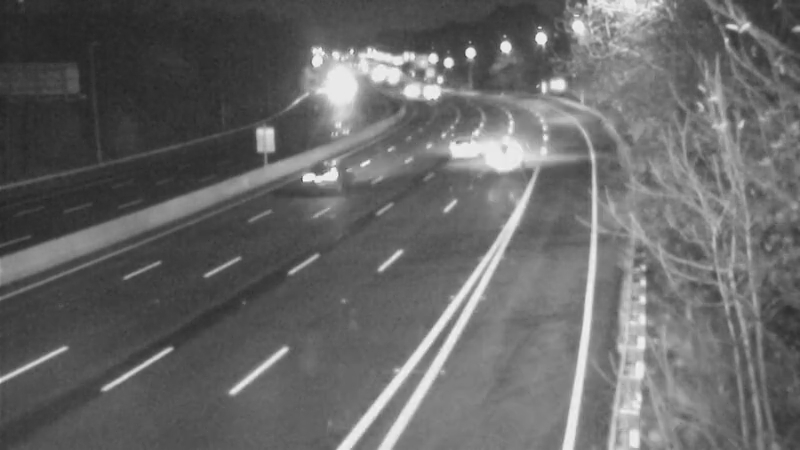vehicle: (430, 112, 510, 192), (458, 115, 538, 195), (287, 131, 367, 211)
